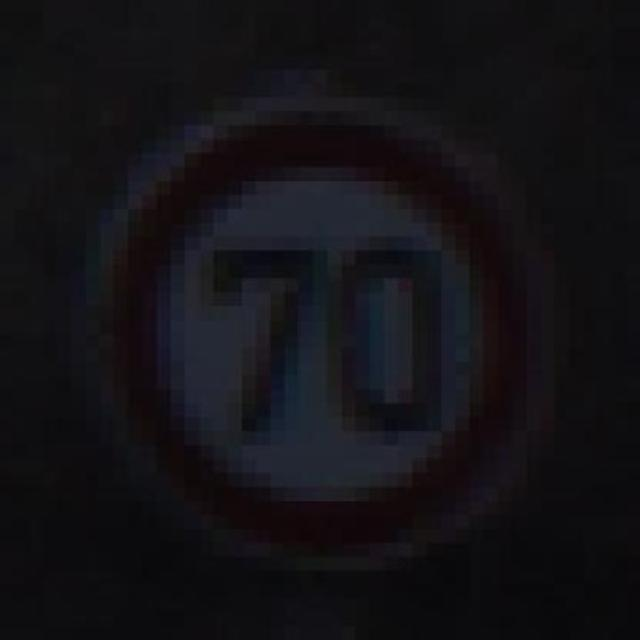forb_speed_over_70: (111, 112, 532, 553)
